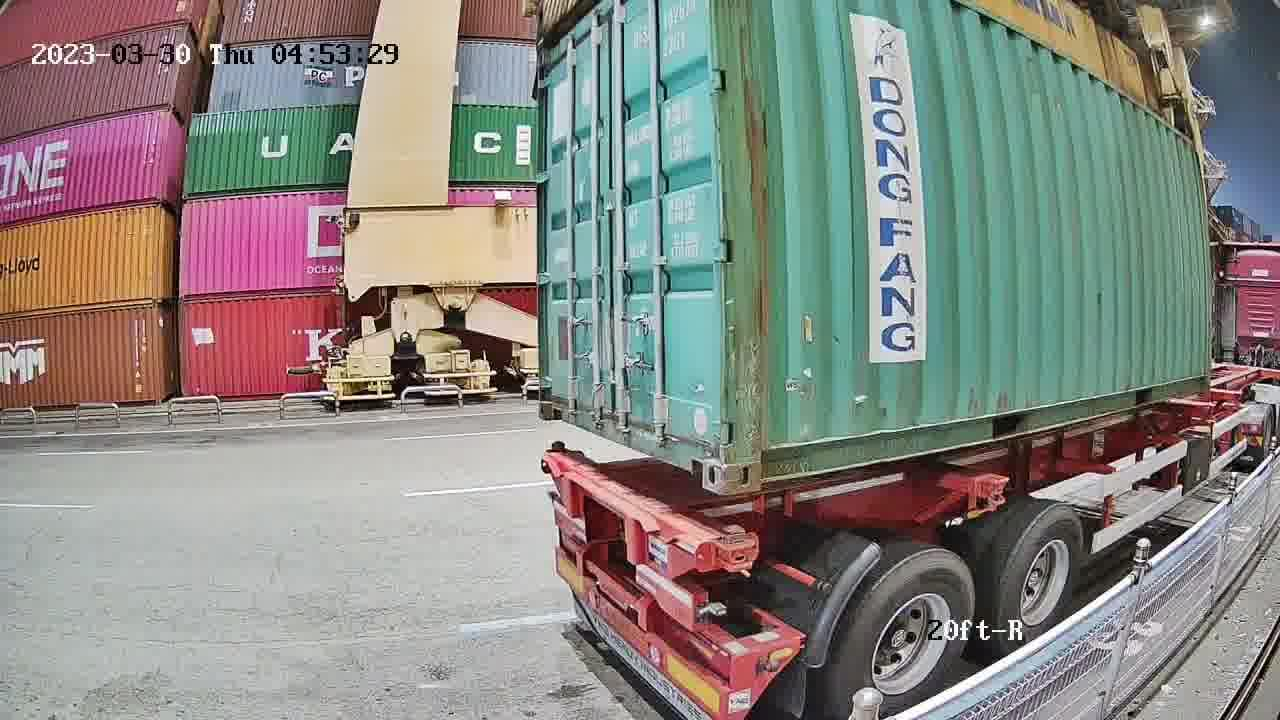Chassis: (543, 449, 744, 581)
Cone: (715, 523, 752, 575)
Hole_L: (727, 422, 790, 495), (537, 377, 571, 423)
Hole_R: (680, 423, 727, 494)
Tire: (840, 553, 975, 717), (1004, 508, 1083, 653)
